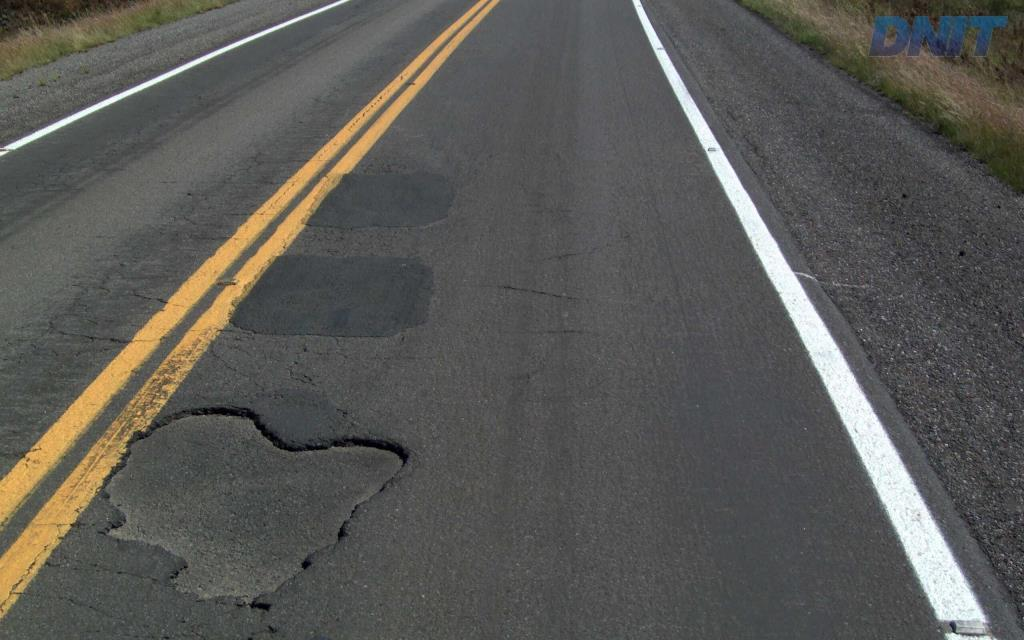pothole: (94, 398, 416, 607)
